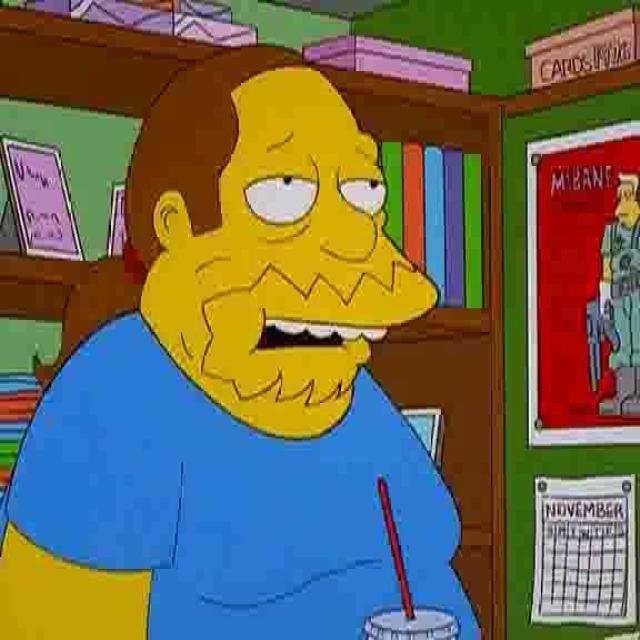Comic Book Guy: (110, 43, 443, 443)
